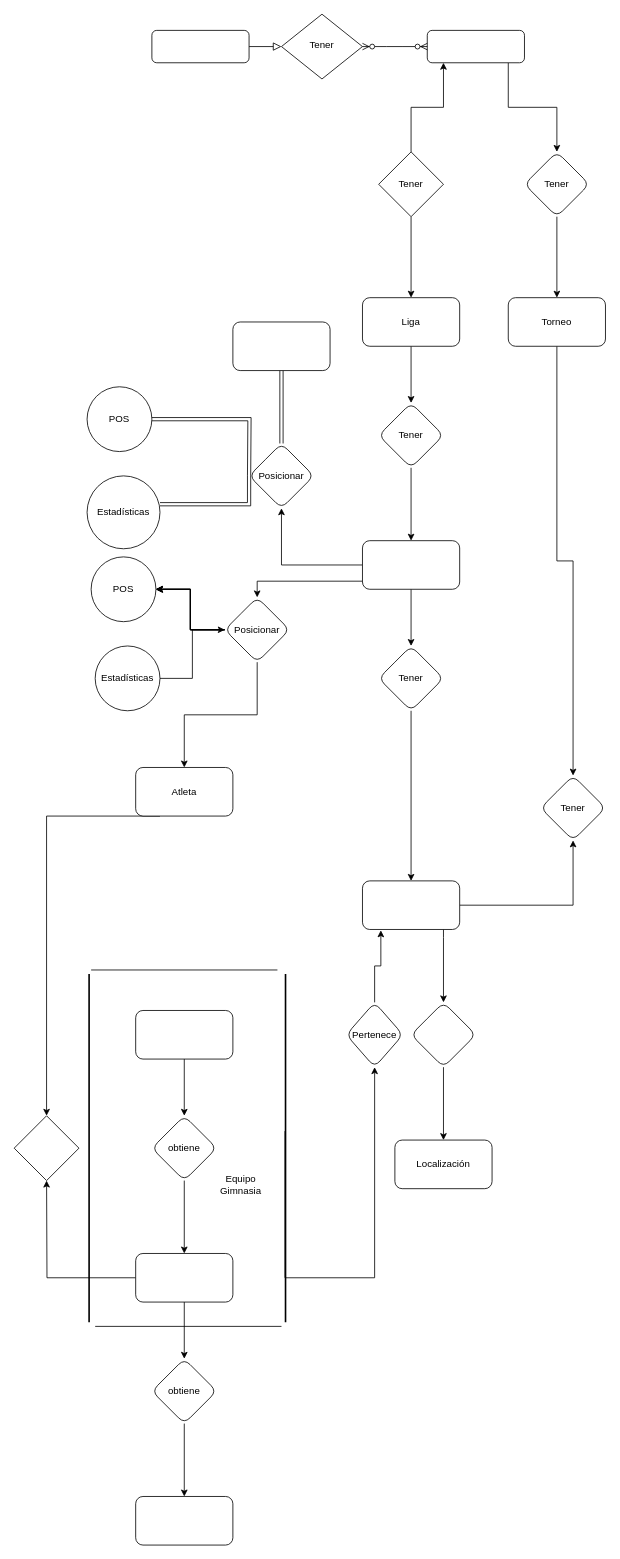
Image size: 620x1559. Some labels were removed from this diagram. Here are the shapes that lost their labels. From the top down, the box of each, then its label:
(151, 30, 249, 63): Modalidad Deportiva
(426, 30, 524, 63): Campeonato
(232, 321, 330, 371): Facultad
(362, 540, 460, 589): Grupo
(362, 880, 460, 929): Evento
(135, 1010, 233, 1059): Equipo
(410, 1002, 476, 1067): Realizar
(13, 1115, 79, 1181): Esta
(135, 1253, 233, 1302): Composición
(135, 1496, 233, 1545): Puntuación
